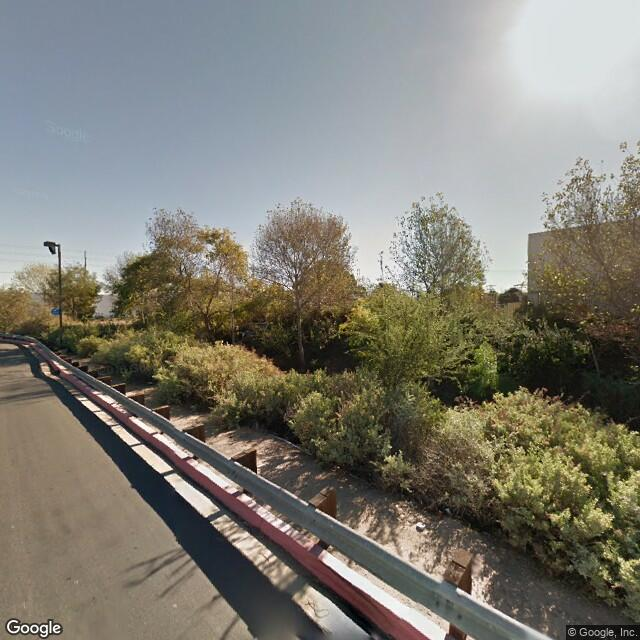litter: (415, 522, 427, 529)
